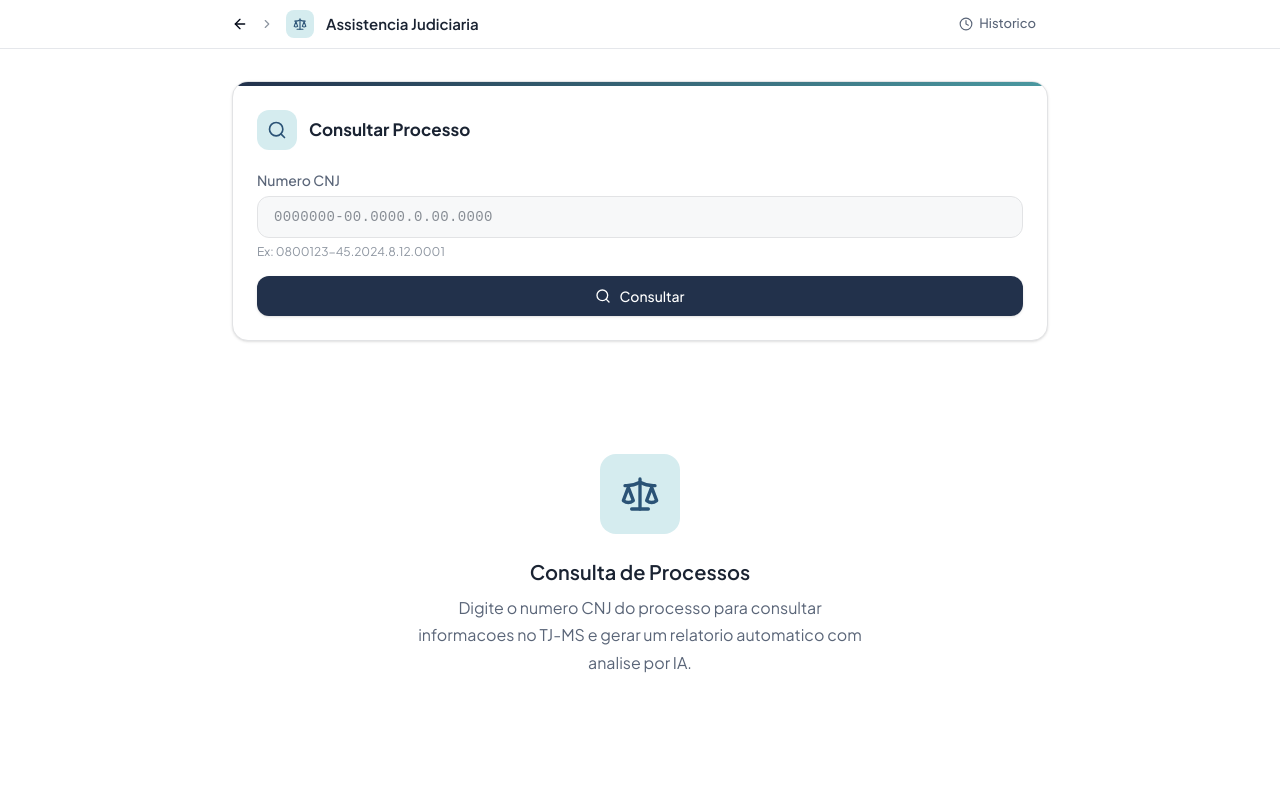
it: AssistenciaPage › deve mostrar mensagem quando nao ha historico
This screenshot has width=1280, height=800.
Abre o sheet de historico
Click the button "Historico": (998, 24) [947,8,1048,40]
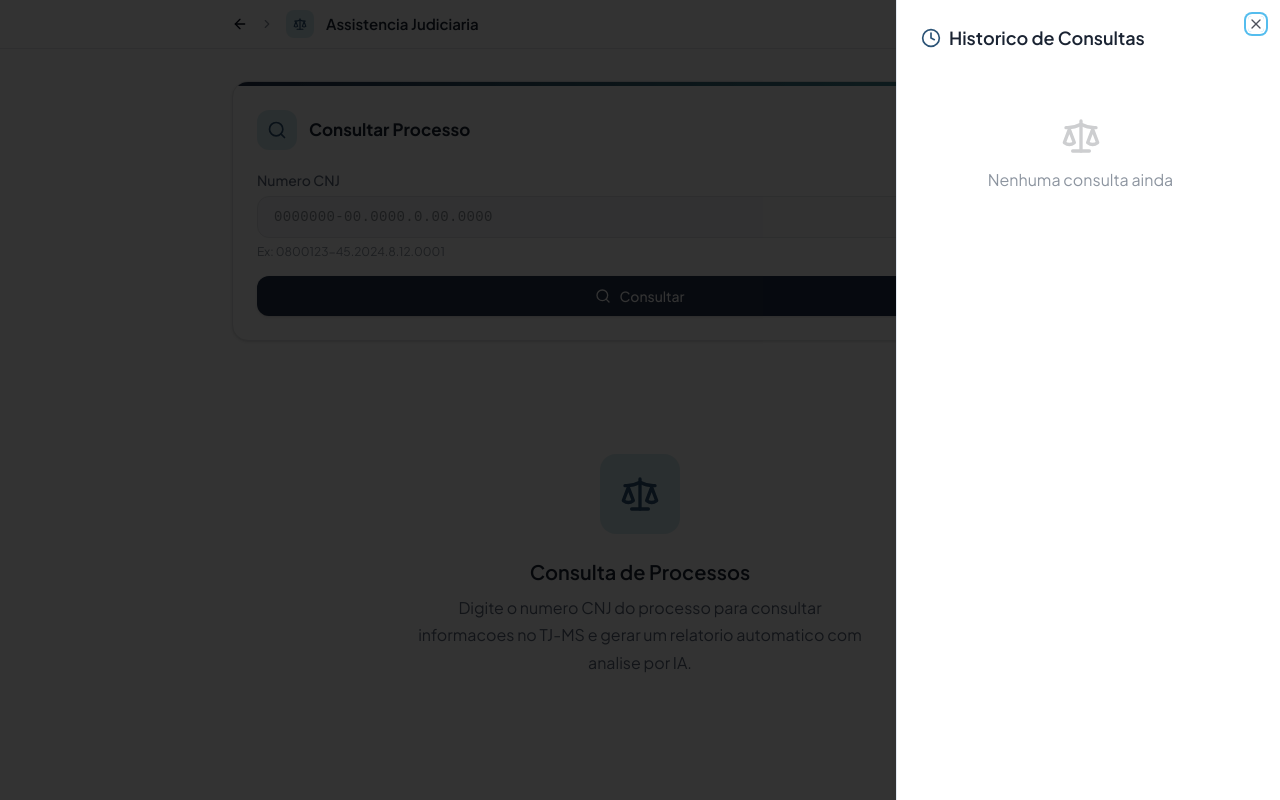
Check: the text "Nenhuma consulta ainda" is shown, box [988,169,1173,190]
